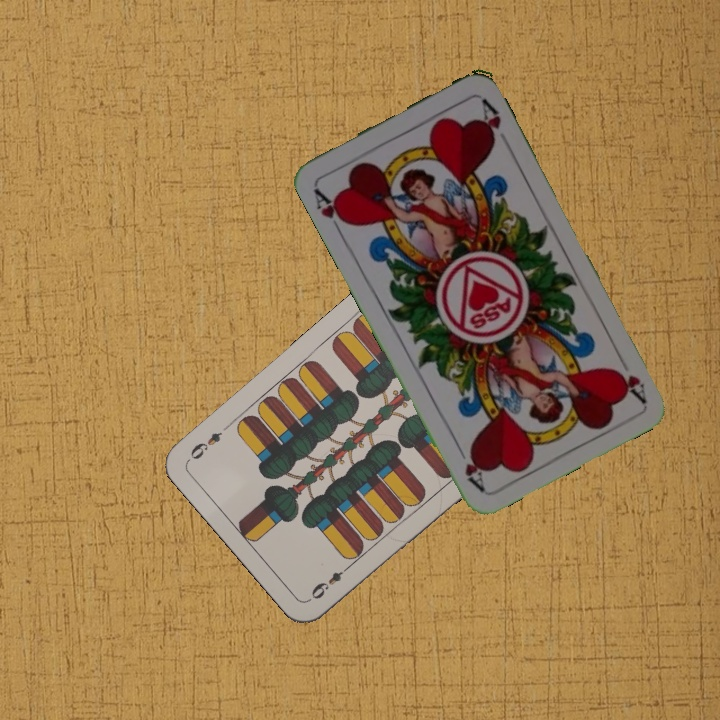E9: (306, 560, 354, 602)
HA: (309, 183, 353, 238), (611, 350, 649, 405)
